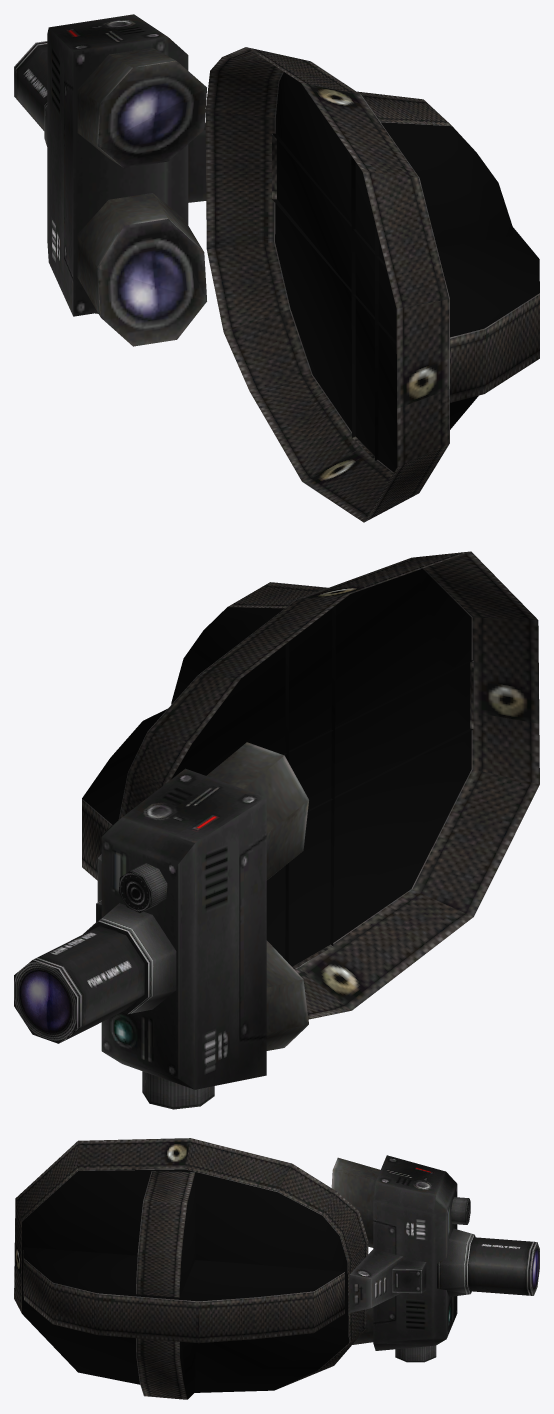
File: night_goggles.FBX
3 views of the same model, one above another, from view 1: azimuth 30°, elevation 25°; view 2: azimuth 150°, elevation 25°; view 3: azimuth 270°, elevation 25° (orthographic). The views are drawn at different scales.
Parts seen in each view (by area): view 1: night_goggles; view 2: night_goggles; view 3: night_goggles.
Boxes of the visible parts, bbox=[...] form: night_goggles: bbox=[14, 14, 539, 522]; night_goggles: bbox=[14, 551, 539, 1109]; night_goggles: bbox=[14, 1138, 539, 1399].
Size of the model in its own units: 8.71 by 12.17 by 22.87.
